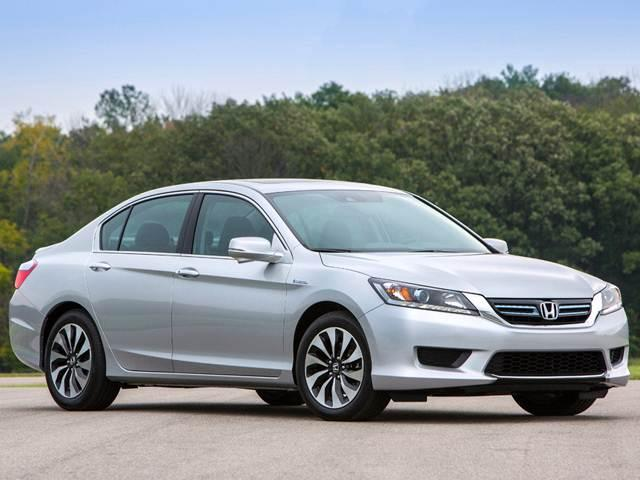car: (8, 176, 629, 422)
